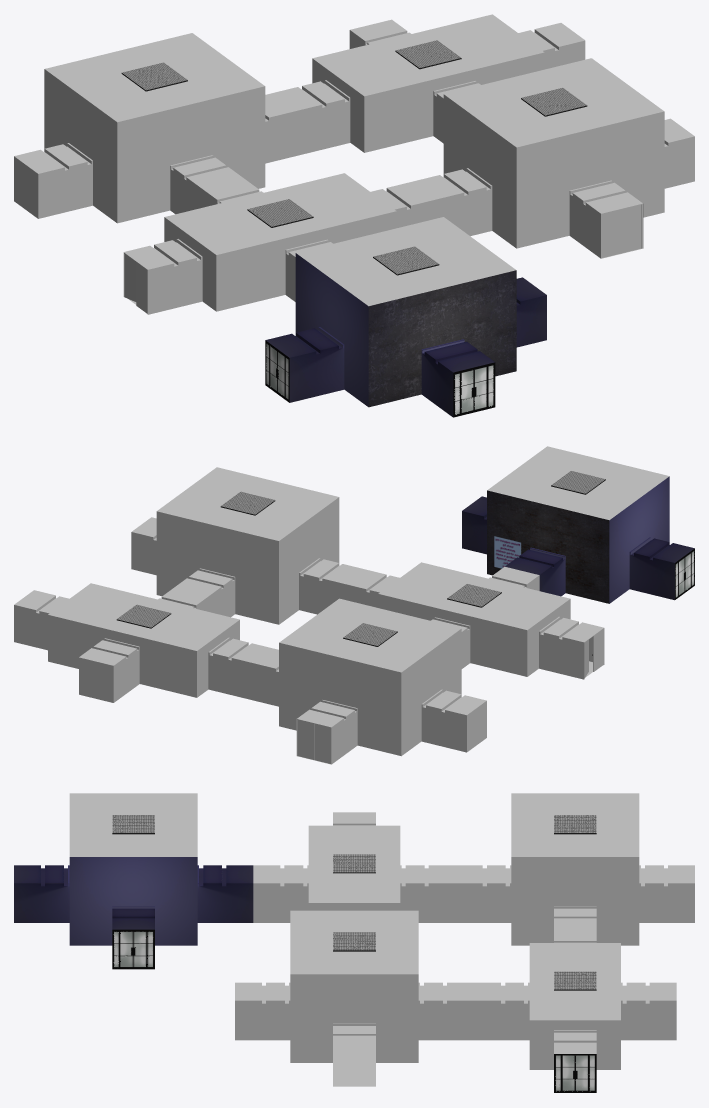
Rendered from meta003.dae.
3 views of the same model, one above another, from view 1: azimuth 30°, elevation 25°; view 2: azimuth 150°, elevation 25°; view 3: azimuth 270°, elevation 25° (orthographic). The views are drawn at different scales.
Visible parts, largest first — view 1: group_3, group_65, group_28, group_67, group_24, group_9, group_29, group_5, group_2, group_20, group_6, group_34 (+27 smaller); view 2: group_25, group_10, group_63, group_24, group_9, group_67, group_5, group_29, group_36, group_12, group_6, group_64 (+27 smaller); view 3: group_62, group_7, group_21, group_9, group_24, group_67, group_5, group_29, Component_1 (×4), group_32, group_38, group_61 (+19 smaller).
Boxes of the visible parts, box(x1,y1,x2,y2) form: group_3: box(516, 111, 664, 248); group_65: box(368, 270, 516, 407); group_28: box(117, 86, 265, 223); group_67: box(296, 217, 516, 306); group_24: box(45, 33, 264, 122); group_9: box(444, 58, 663, 147); group_29: box(313, 14, 544, 96); group_5: box(165, 173, 396, 254); group_2: box(216, 211, 396, 311); group_20: box(364, 52, 544, 152); group_6: box(443, 94, 516, 248); group_34: box(44, 69, 117, 222); group_25: box(279, 642, 401, 755); group_10: box(156, 511, 278, 624); group_63: box(487, 490, 609, 603); group_24: box(279, 598, 461, 672); group_9: box(157, 467, 338, 540); group_67: box(487, 446, 669, 520); group_5: box(378, 562, 569, 630); group_29: box(48, 583, 239, 650); group_36: box(48, 615, 196, 697); group_12: box(378, 594, 527, 676); group_6: box(279, 497, 339, 624); group_64: box(609, 476, 669, 603); group_62: box(69, 857, 197, 945); group_7: box(290, 974, 418, 1062); group_21: box(511, 857, 639, 945); group_9: box(290, 910, 418, 974); group_24: box(511, 793, 639, 856); group_67: box(69, 793, 197, 856); group_5: box(308, 825, 400, 902); group_29: box(529, 943, 620, 1020); Component_1 (×4): box(333, 815, 596, 989); group_32: box(622, 982, 676, 1040); group_38: box(455, 865, 509, 922); group_61: box(199, 865, 253, 922).
Size of the model in its own units: 825 by 982 by 143.
